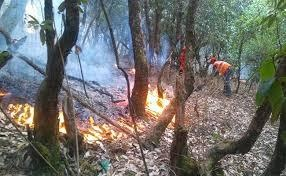fire: (77, 114, 140, 143), (0, 92, 36, 128), (142, 83, 171, 117), (56, 109, 66, 134)
